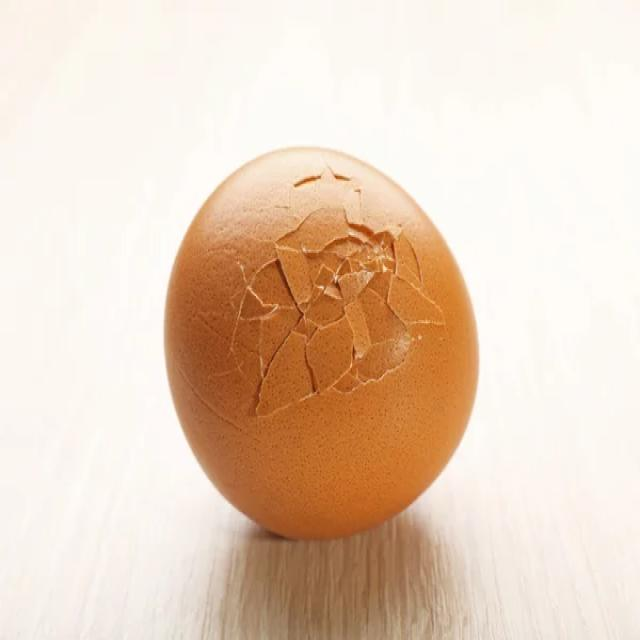Crack: (208, 155, 467, 461)
Egg: (144, 128, 507, 557)
